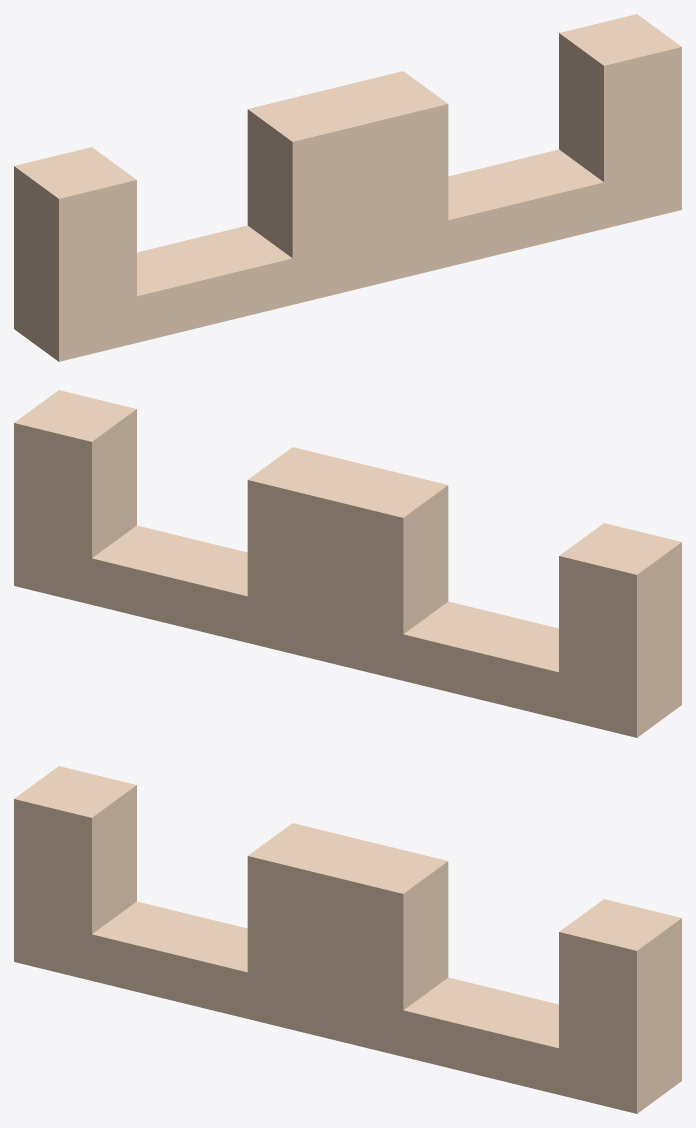
The model's file is Abstract_Castle_Block_Single_BattlementTopBack_Cream_01.fbx.
3 renders of one model, top to bottom at view 1: azimuth 30°, elevation 25°; view 2: azimuth 150°, elevation 25°; view 3: azimuth 330°, elevation 25°, orthographic.
Parts seen in each view (by area): view 1: Model; view 2: Model; view 3: Model.
Boxes of the visible parts, x1,y1,x2,y2 form: Model: (14, 14, 681, 361); Model: (14, 390, 681, 737); Model: (14, 766, 681, 1113).
Bounding box in the file's own units: 1000 × 250 × 125.
